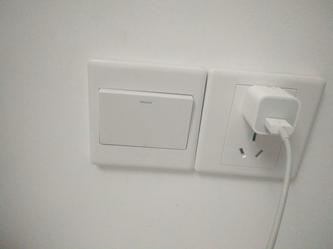switch: (92, 81, 192, 155)
